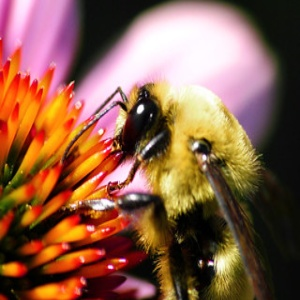bee: (119, 79, 295, 300)
